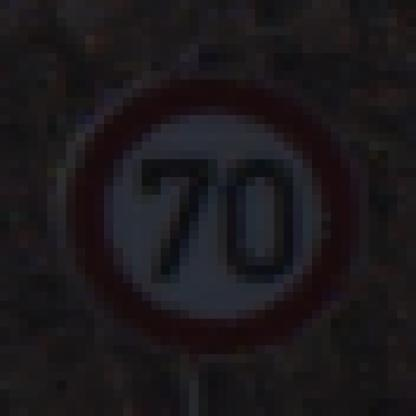Speed Limit 70: (71, 77, 355, 352)
